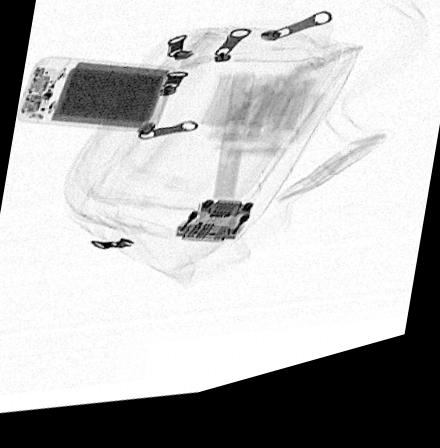Powerbank: (16, 58, 178, 138)
